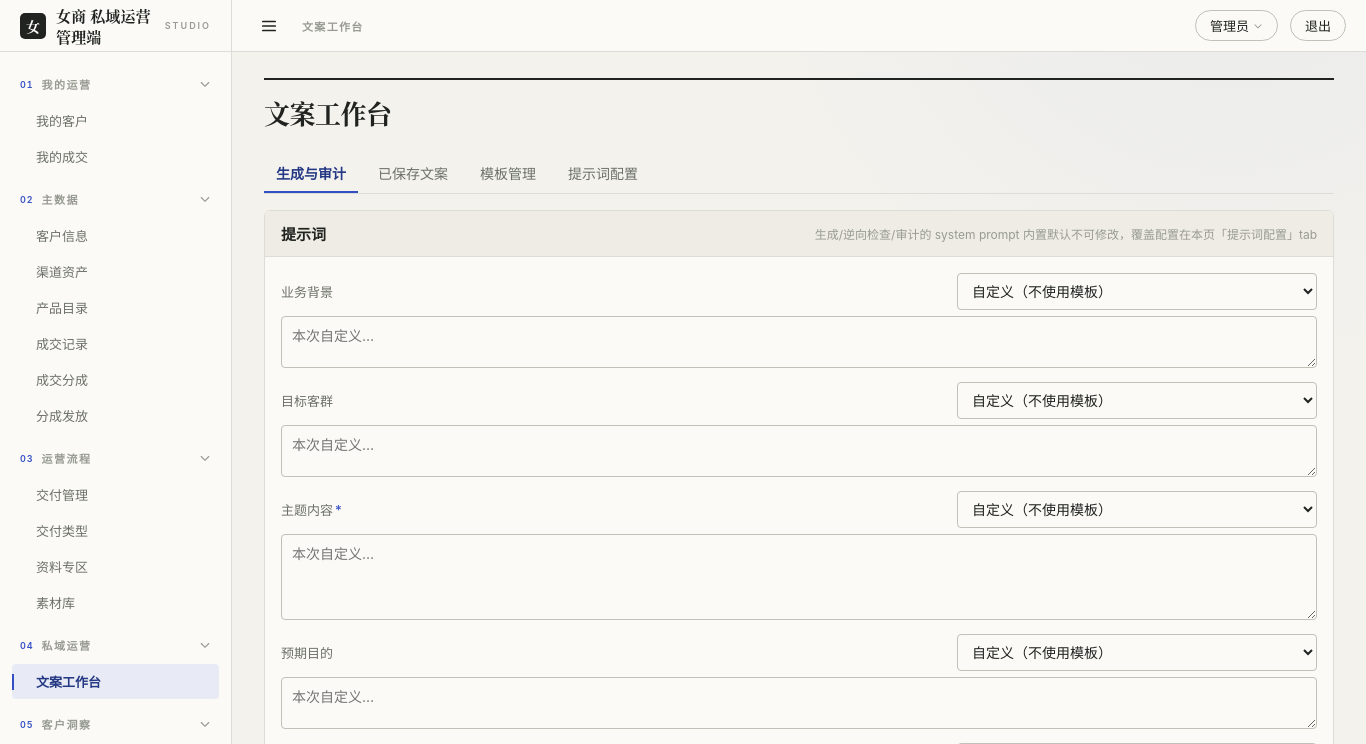
it: 文案工作台 › 生成 tab：关闭自动逆向检查 → 只调 generate，结果即原始稿
Type "开营预告" into the text box named "主题内容" at (799, 577), box x1=281 y1=534 x2=1317 y2=620
(page scrolled)
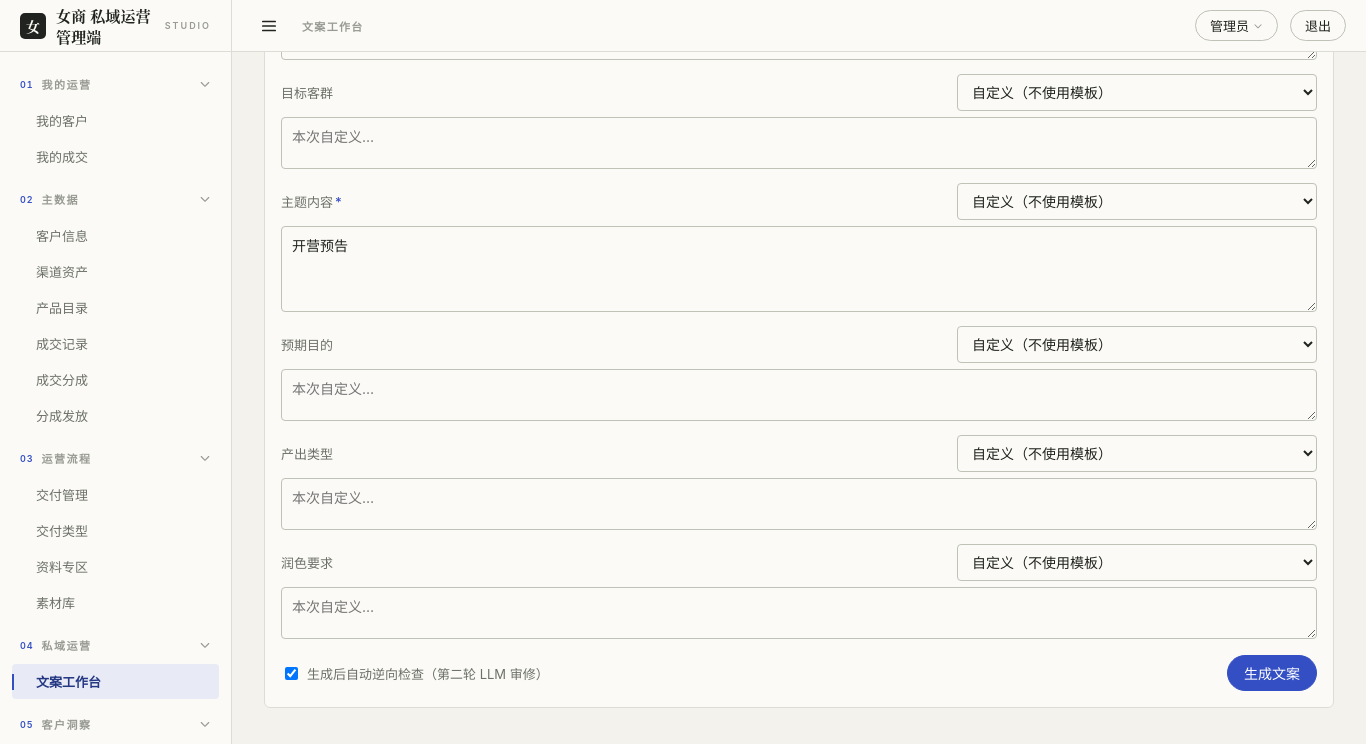
Click the checkbox labelled "生成后自动逆向检查" at (292, 673), box x1=285 y1=666 x2=298 y2=680
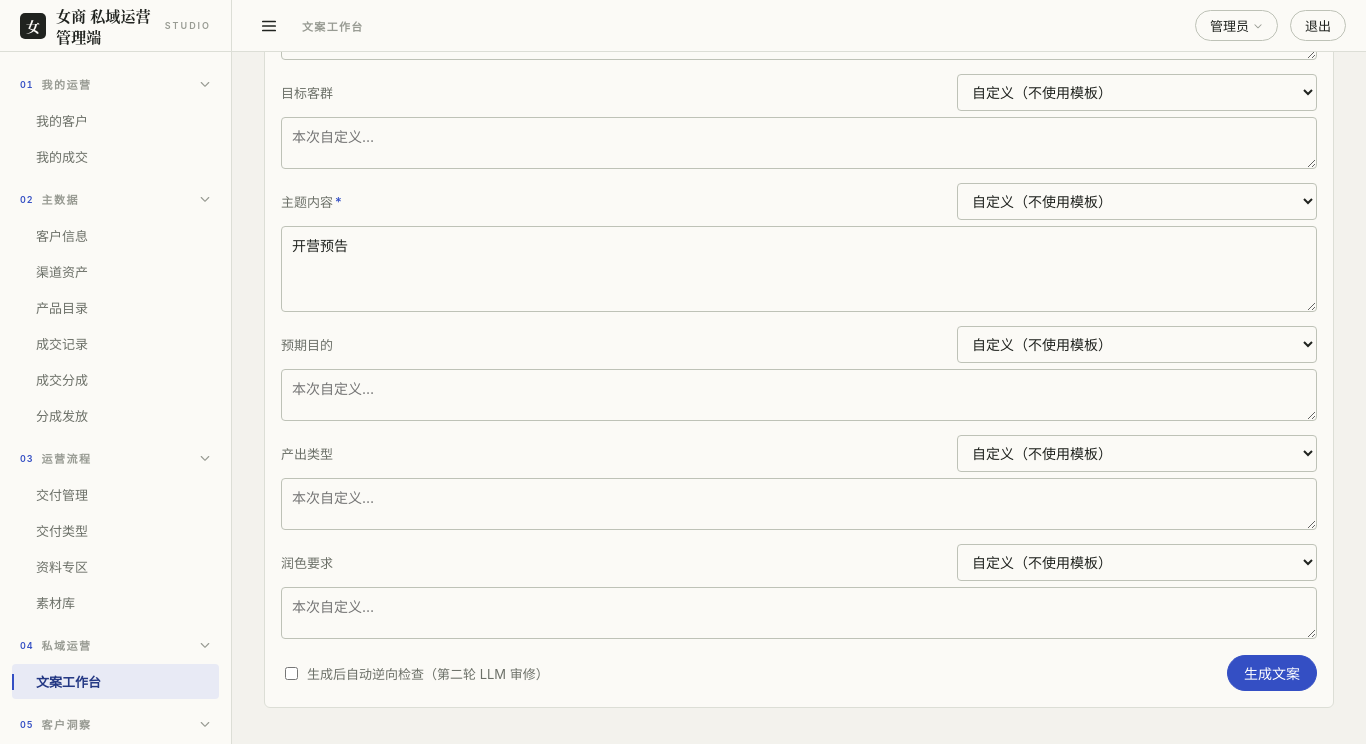
Click the button "生成文案" at (1272, 673), box x1=1227 y1=655 x2=1317 y2=691
(page scrolled)
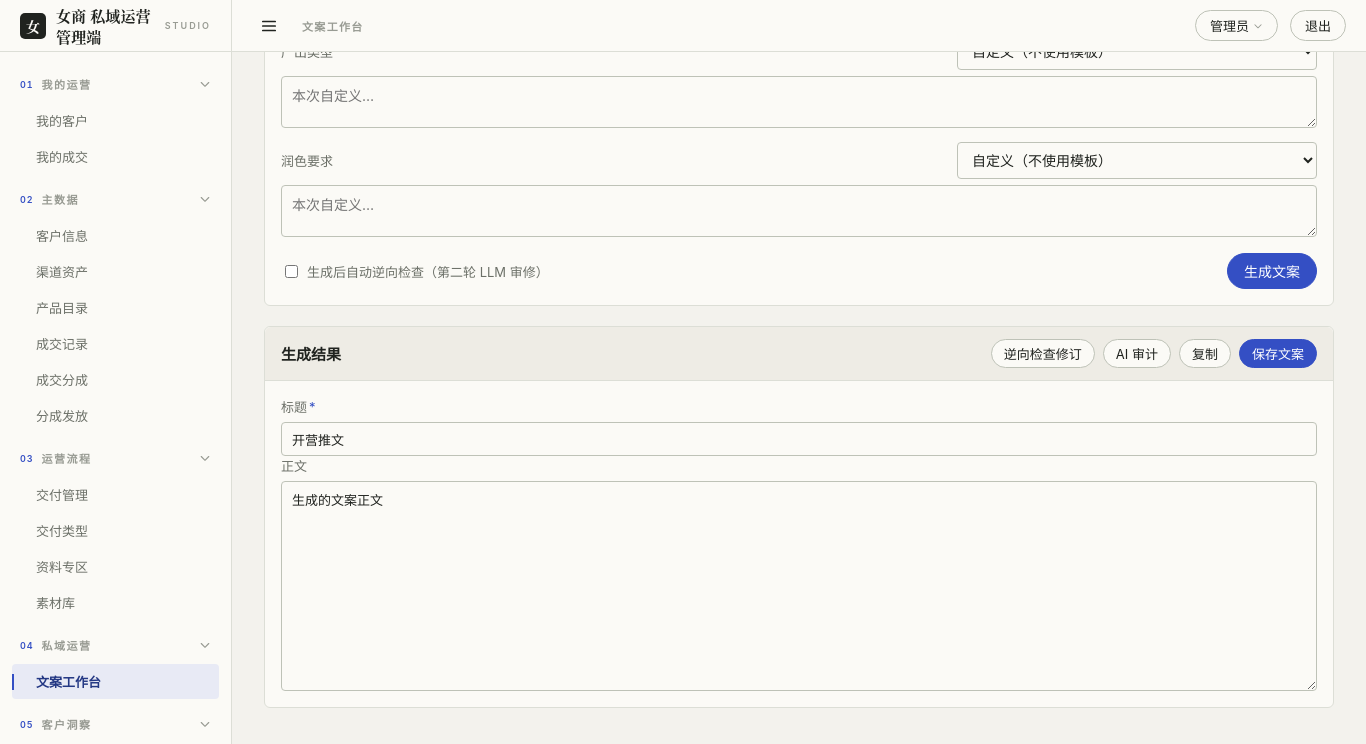
Now the text box named "文案正文" holds "生成的文案正文", box x1=281 y1=481 x2=1317 y2=691
